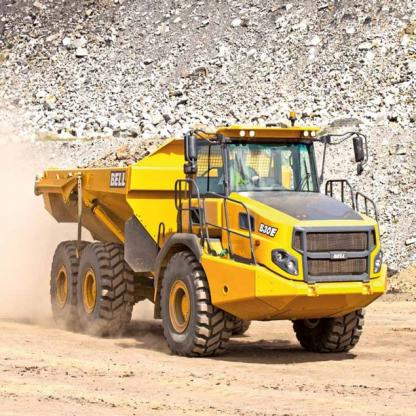dump_truck: (24, 110, 386, 363)
